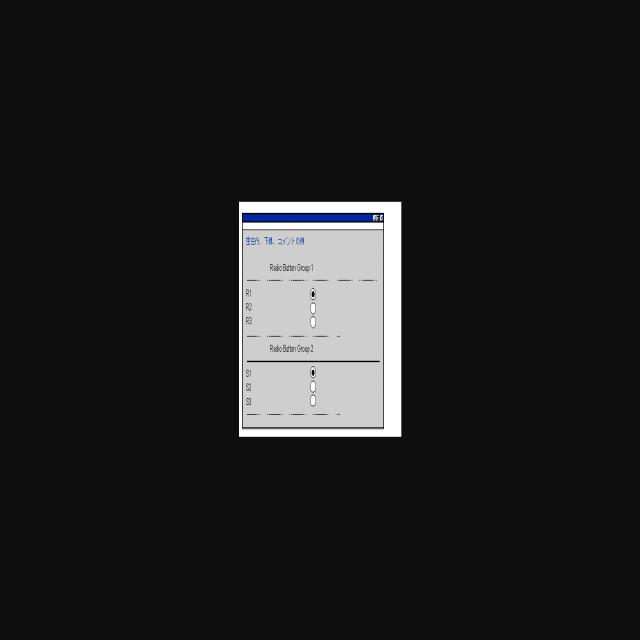radio: (309, 285, 318, 303), (309, 366, 316, 379)
